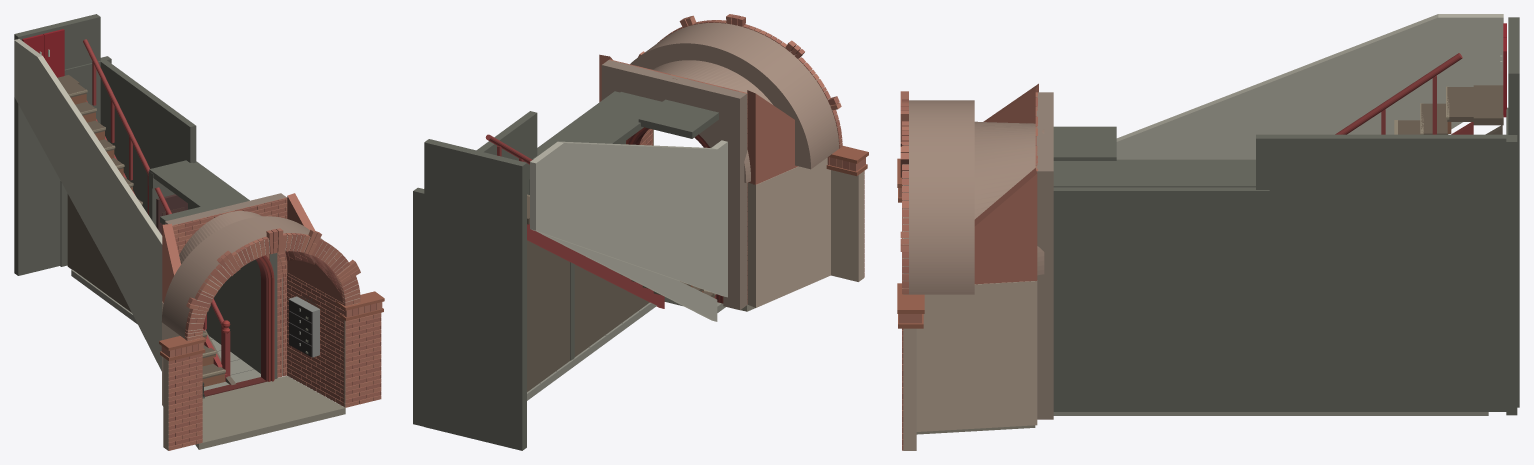
The model's file is changning-great-western-villa-16-arched-entry-raw.glb.
3 renders of one model, left to right at view 1: azimuth 30°, elevation 25°; view 2: azimuth 150°, elevation 25°; view 3: azimuth 270°, elevation 25°, orthographic. The views are drawn at different scales.
Visible parts, largest first — view 1: 大西别墅16号的双重砖拱、花饰信报箱与楼梯; view 2: 大西别墅16号的双重砖拱、花饰信报箱与楼梯; view 3: 大西别墅16号的双重砖拱、花饰信报箱与楼梯.
Part boxes in pixels (x1,y1,x2,y2): 大西别墅16号的双重砖拱、花饰信报箱与楼梯: (14, 14, 384, 450); 大西别墅16号的双重砖拱、花饰信报箱与楼梯: (413, 14, 868, 450); 大西别墅16号的双重砖拱、花饰信报箱与楼梯: (897, 14, 1519, 450).
Size of the model in its own units: 3.24 by 3.6 by 5.8.
